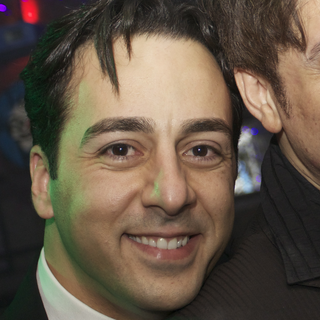eye: (90, 135, 149, 167), (174, 140, 227, 171)
